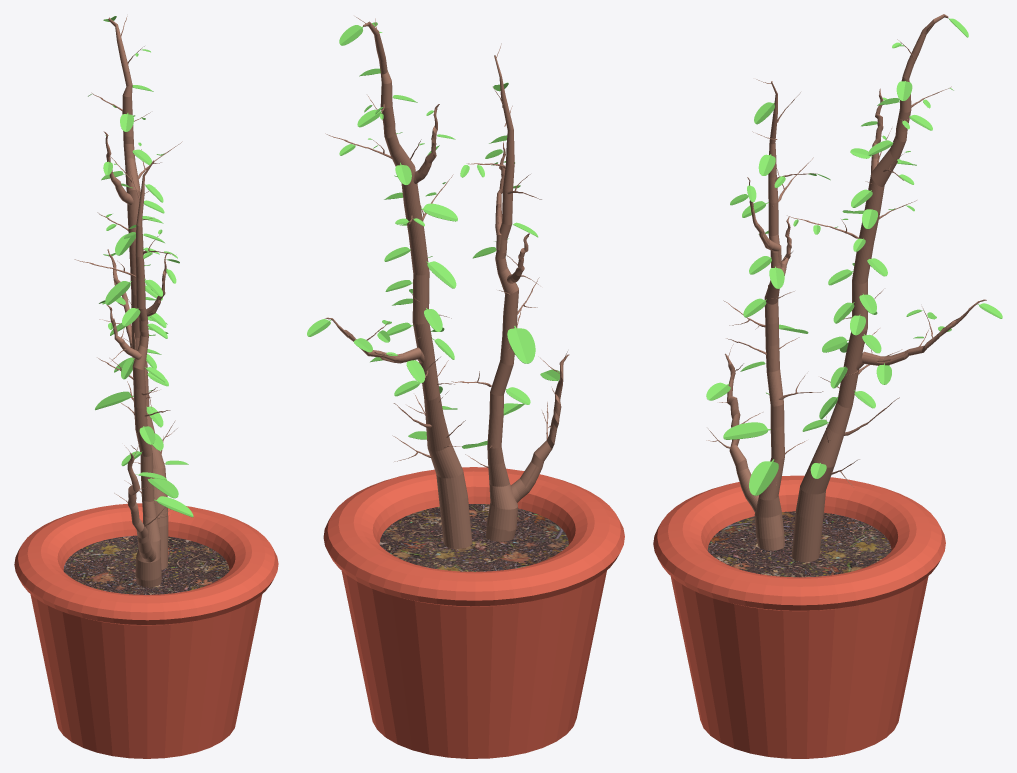
The model's file is planta.fbx.
The picture shows the model from 3 angles, left to right: view 1: azimuth 30°, elevation 25°; view 2: azimuth 150°, elevation 25°; view 3: azimuth 270°, elevation 25°; orthographic projection. The views are drawn at different scales.
Visible parts, largest first — view 1: Maceta, BordeMaceta, Tierra, tronco1_1, tronco2_1, tronco1_2; view 2: Maceta, BordeMaceta, tronco2_1, Tierra, tronco1_1, tronco1_2, Hoja.067, tronco2_4; view 3: Maceta, BordeMaceta, tronco2_1, Tierra, tronco1_1, tronco1_2, tronco2_4, Hoja.045, Hoja.064.
Part boxes in pixels (x1,y1,x2,y2): Maceta: (30,594,262,758); BordeMaceta: (14,503,278,625); Tierra: (63,535,229,594); tronco1_1: (132,160,161,587); tronco2_1: (108,17,168,569); tronco1_2: (127,453,156,562); Maceta: (341,571,606,758); BordeMaceta: (323,467,624,606); tronco2_1: (363,21,472,548); Tierra: (379,504,568,571); tronco1_1: (485,55,518,541); tronco1_2: (511,354,569,502); Hoja.067: (507,326,535,363); tronco2_4: (325,317,424,363); Maceta: (670,576,928,758); BordeMaceta: (653,475,945,611); tronco2_1: (791,14,948,562); Tierra: (707,511,891,577); tronco1_1: (754,81,784,550); tronco1_2: (725,353,758,512); tronco2_4: (856,299,986,369); Hoja.045: (749,459,778,495); Hoja.064: (723,422,770,439).
Size of the model in its own units: 219 by 595 by 261.
72 materials, 1 textured.
